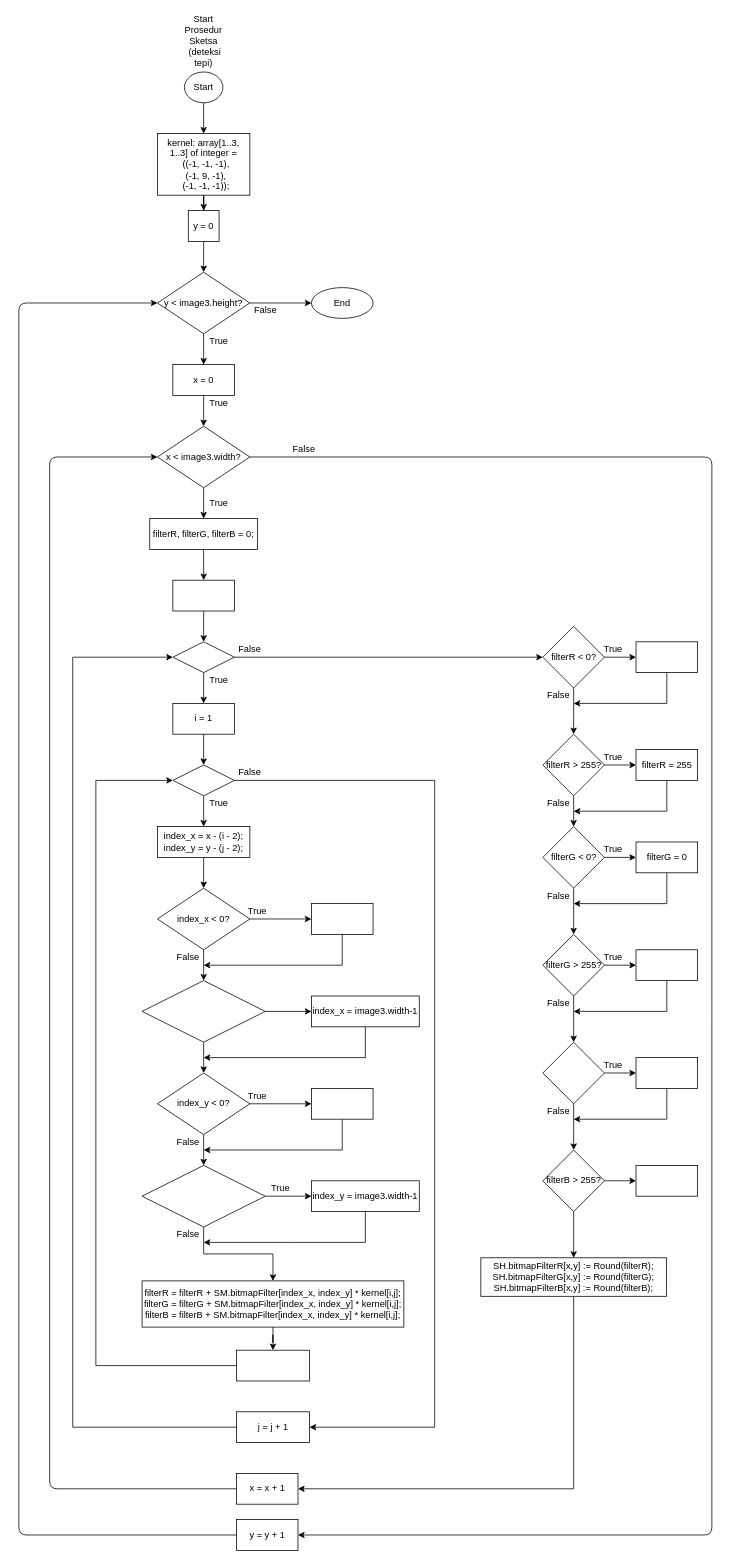
This 732x1564 diagram has some shape labels left out. Each missing label, with the centre of its shape:
"filterB < 0?" belongs at point 573,1072.
"filterB = 0" belongs at point 666,1072.
"filterB = 255" belongs at point 666,1180.
"filterG = 255" belongs at point 666,965.
"filterR = 0" belongs at point 666,657.
"i < 3?" belongs at point 203,780.
"i = i + 1" belongs at point 273,1365.
"index_x = 0" belongs at point 342,918.
"index_x > image3.width-1?" belongs at point 203,1011.
"index_y = 0" belongs at point 342,1103.
"index_y > image3.width-1?" belongs at point 203,1196.
"j < 3?" belongs at point 203,657.
"j = 1" belongs at point 203,595.
